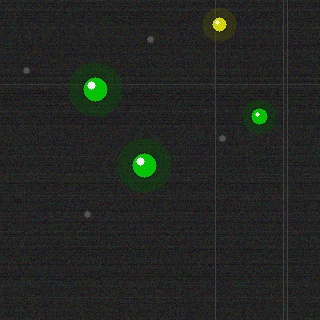green_normal: (130, 151, 158, 179), (81, 75, 109, 103), (249, 106, 269, 126)
yellow_warning: (210, 15, 228, 33)
